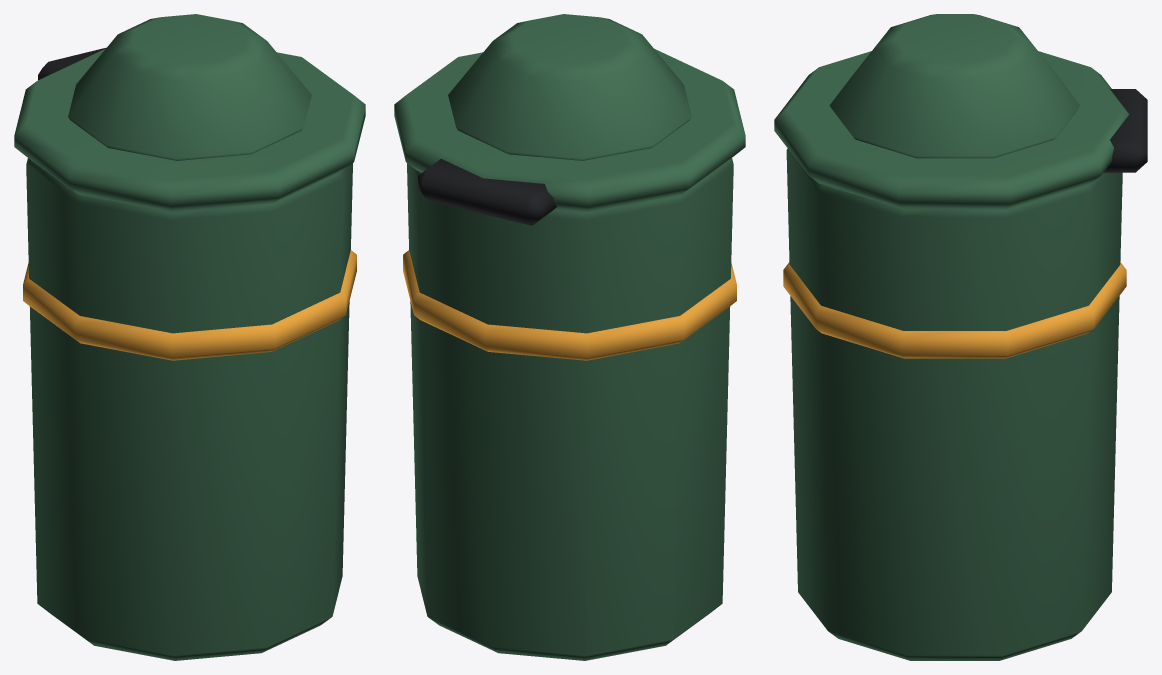
File: bin.glb
3 views of the same model, side by side, from view 1: azimuth 30°, elevation 25°; view 2: azimuth 150°, elevation 25°; view 3: azimuth 270°, elevation 25° (orthographic).
Visible parts, largest first — view 1: Body; view 2: Body; view 3: Body.
Boxes of the visible parts, x1,y1,x2,y2 form: Body: [14, 14, 365, 660]; Body: [394, 14, 745, 660]; Body: [774, 14, 1147, 660].
Bounding box in the file's own units: 0.5706 × 1.04 × 0.62.
Materials: 1 (1 with a texture image).
